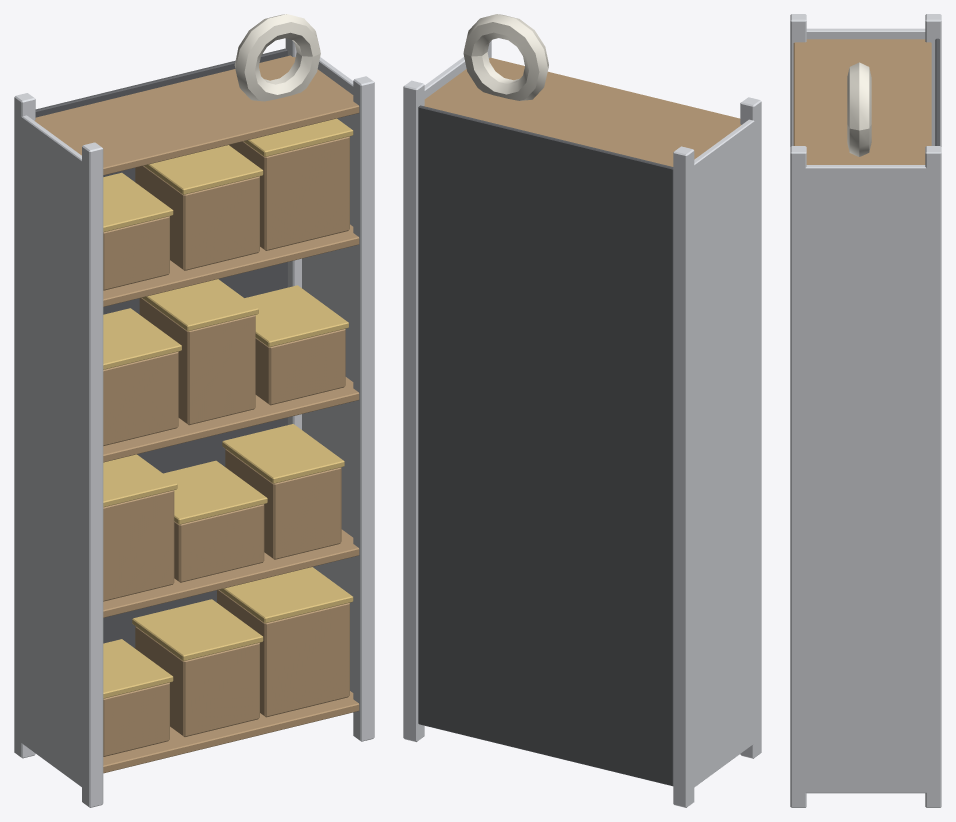
Rendered from escape-room-and-puzzle-venue-prop-store-shelving-d675499a__35803.glb.
3 renders of one model, left to right at view 1: azimuth 30°, elevation 25°; view 2: azimuth 150°, elevation 25°; view 3: azimuth 270°, elevation 25°, orthographic.
Parts seen in each view (by area): view 1: prop-store-shelving; view 2: prop-store-shelving; view 3: prop-store-shelving.
Boxes of the visible parts, x1=… form: prop-store-shelving: x1=14, y1=14, x2=374, y2=807; prop-store-shelving: x1=403, y1=14, x2=761, y2=807; prop-store-shelving: x1=790, y1=14, x2=941, y2=807.
Bounding box in the file's own units: 0.9999 × 2.38 × 0.46.
